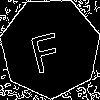F: (25, 22, 65, 74)
